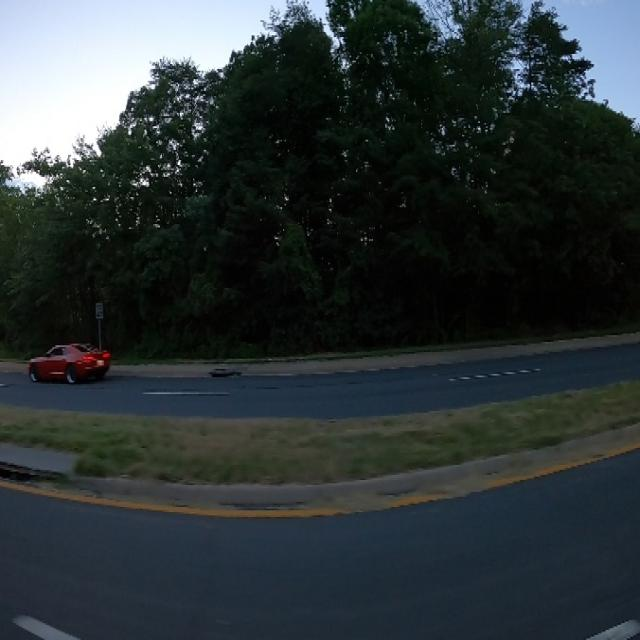cars: (22, 317, 110, 398)
